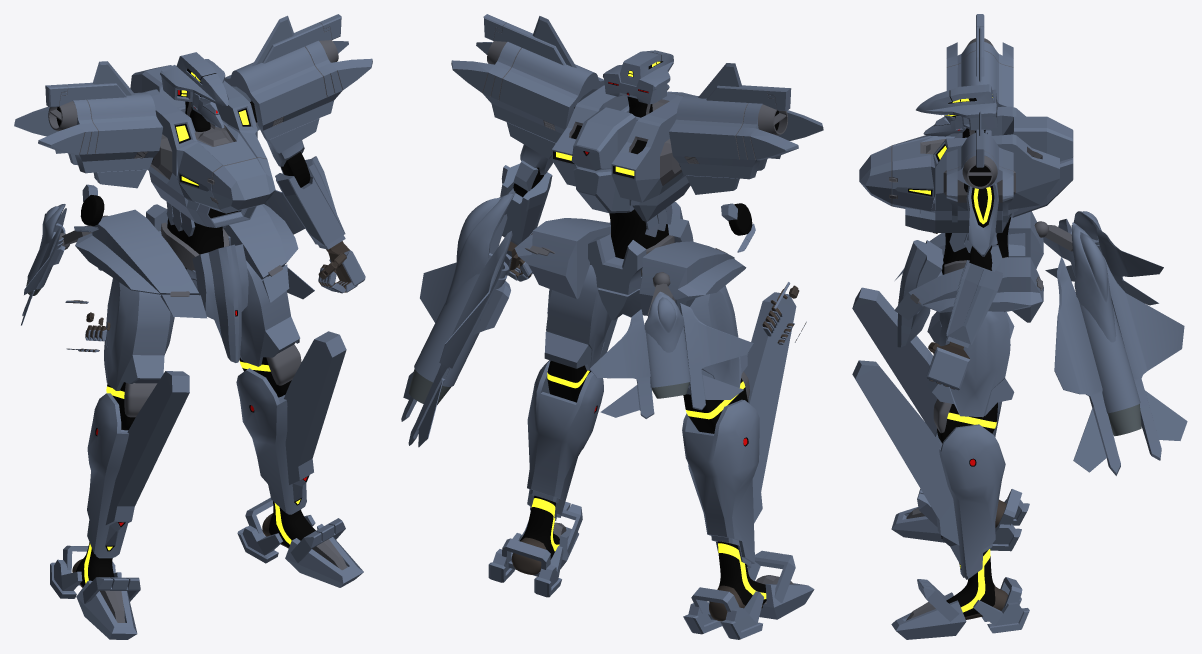
File: glbxz_com_glbxz_com.glb
The picture shows the model from 3 angles, left to right: view 1: azimuth 30°, elevation 25°; view 2: azimuth 150°, elevation 25°; view 3: azimuth 270°, elevation 25°; orthographic projection. The views are drawn at different scales.
Visible parts, largest first — view 1: md5_cf3e00f81b410242540dfd6b1dbffd6a, object 6, object 2, object 4, md5_e17cfc02e4978834753946bca369d56b, md5_908cd6eb23b69098472161031e305809, md5_826755653ed457fd1e7a8526eb064db8, md5_cc2fbc2009da9754921eb3cfecf52456, md5_d6d2b12d7dd188da178aaa8515ba1c0e, md5_25f3b60fc53f4c30cbadbf7e5b092db4, md5_eb2b92f9dff6d0df4d24da1603c981fa, md5_30efa367efd5a78675f003d9ee870bb2 (+22 smaller); view 2: object 108, object 6, object 115, md5_cf3e00f81b410242540dfd6b1dbffd6a, object 4, object 2, md5_d6d2b12d7dd188da178aaa8515ba1c0e, md5_cc2fbc2009da9754921eb3cfecf52456, md5_826755653ed457fd1e7a8526eb064db8, md5_25f3b60fc53f4c30cbadbf7e5b092db4, md5_4241ce6e19b02f1c6f97cad9789bbb4e, md5_30efa367efd5a78675f003d9ee870bb2 (+19 smaller); view 3: object 108, object 6, md5_cf3e00f81b410242540dfd6b1dbffd6a, md5_cc2fbc2009da9754921eb3cfecf52456, md5_908cd6eb23b69098472161031e305809, md5_25f3b60fc53f4c30cbadbf7e5b092db4, md5_826755653ed457fd1e7a8526eb064db8, md5_30efa367efd5a78675f003d9ee870bb2, object 115, object 4, md5_eb2b92f9dff6d0df4d24da1603c981fa, object 2 (+17 smaller).
Part boxes in pixels (bbox=[...]): md5_cf3e00f81b410242540dfd6b1dbffd6a: bbox=[75, 204, 298, 362]; object 6: bbox=[130, 65, 275, 227]; object 2: bbox=[224, 40, 372, 153]; object 4: bbox=[14, 92, 162, 188]; md5_e17cfc02e4978834753946bca369d56b: bbox=[104, 278, 174, 390]; md5_908cd6eb23b69098472161031e305809: bbox=[284, 331, 346, 501]; md5_826755653ed457fd1e7a8526eb064db8: bbox=[105, 371, 189, 545]; md5_cc2fbc2009da9754921eb3cfecf52456: bbox=[236, 368, 306, 514]; md5_d6d2b12d7dd188da178aaa8515ba1c0e: bbox=[87, 393, 128, 558]; md5_25f3b60fc53f4c30cbadbf7e5b092db4: bbox=[240, 260, 300, 366]; md5_eb2b92f9dff6d0df4d24da1603c981fa: bbox=[275, 156, 345, 249]; md5_30efa367efd5a78675f003d9ee870bb2: bbox=[160, 52, 228, 128]; object 108: bbox=[401, 191, 515, 447]; object 6: bbox=[551, 85, 694, 221]; object 115: bbox=[590, 291, 753, 418]; md5_cf3e00f81b410242540dfd6b1dbffd6a: bbox=[515, 202, 746, 320]; object 4: bbox=[669, 95, 823, 194]; object 2: bbox=[451, 42, 604, 158]; md5_d6d2b12d7dd188da178aaa8515ba1c0e: bbox=[682, 399, 759, 567]; md5_cc2fbc2009da9754921eb3cfecf52456: bbox=[527, 360, 603, 520]; md5_826755653ed457fd1e7a8526eb064db8: bbox=[743, 292, 796, 523]; md5_25f3b60fc53f4c30cbadbf7e5b092db4: bbox=[544, 265, 611, 370]; md5_4241ce6e19b02f1c6f97cad9789bbb4e: bbox=[514, 230, 704, 315]; md5_30efa367efd5a78675f003d9ee870bb2: bbox=[603, 50, 673, 104]; object 108: bbox=[1054, 222, 1187, 475]; object 6: bbox=[859, 106, 1073, 232]; md5_cf3e00f81b410242540dfd6b1dbffd6a: bbox=[894, 211, 1030, 347]; md5_cc2fbc2009da9754921eb3cfecf52456: bbox=[935, 424, 1005, 579]; md5_908cd6eb23b69098472161031e305809: bbox=[852, 360, 960, 564]; md5_25f3b60fc53f4c30cbadbf7e5b092db4: bbox=[927, 311, 1014, 417]; md5_826755653ed457fd1e7a8526eb064db8: bbox=[852, 287, 937, 435]; md5_30efa367efd5a78675f003d9ee870bb2: bbox=[916, 84, 997, 136]; object 115: bbox=[1043, 211, 1163, 305]; object 4: bbox=[946, 42, 1013, 106]; md5_eb2b92f9dff6d0df4d24da1603c981fa: bbox=[946, 260, 1003, 347]; object 2: bbox=[946, 133, 1013, 222].
Bounding box in the file's own units: 11.04 × 17.02 × 10.02.
